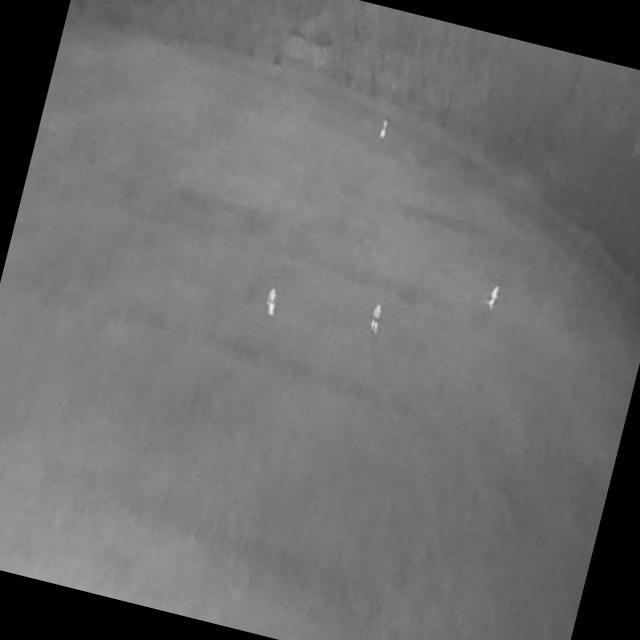person: (261, 287, 281, 322), (366, 301, 384, 337), (485, 284, 501, 314), (377, 118, 390, 142)
